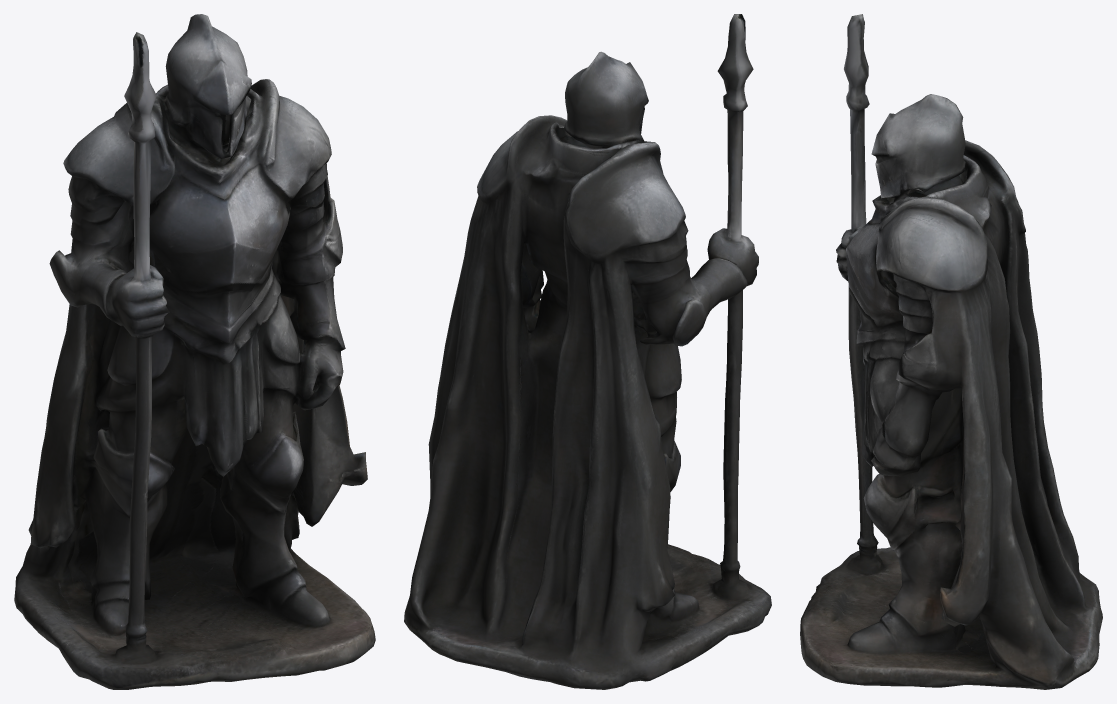
Rendered from guardian_statue_standing.glb.
3 views of the same model, side by side, from view 1: azimuth 30°, elevation 25°; view 2: azimuth 150°, elevation 25°; view 3: azimuth 270°, elevation 25° (orthographic). The views are drawn at different scales.
Size of the model in its own units: 1.04 by 2 by 0.958.
1 material, 1 textured.
